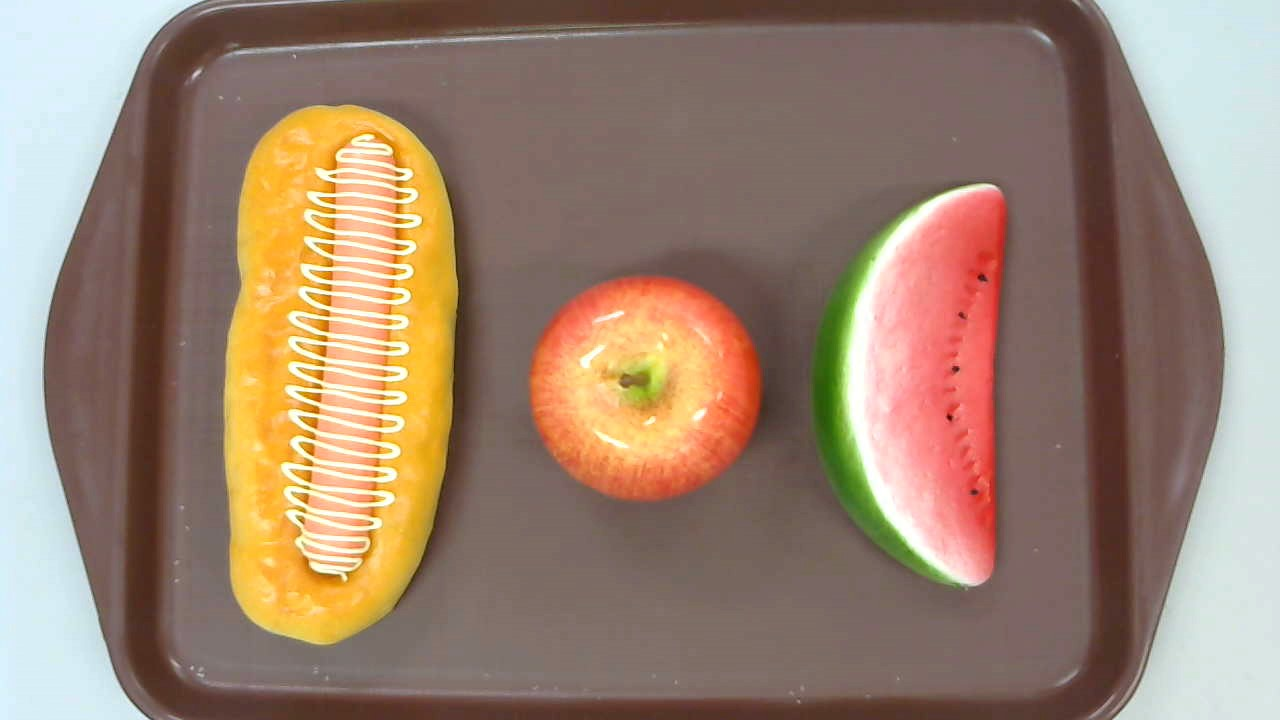hot dog: (222, 103, 458, 645)
red apple: (526, 274, 763, 501)
water melon: (810, 183, 1007, 590)
